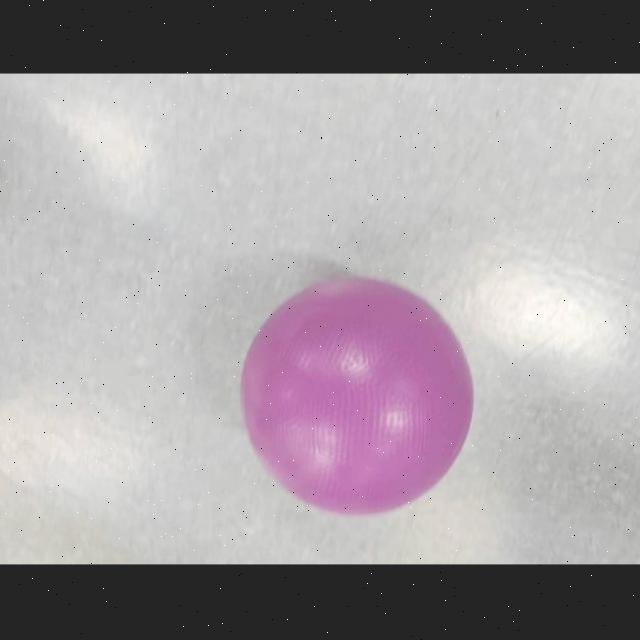P: (229, 274, 483, 526)
